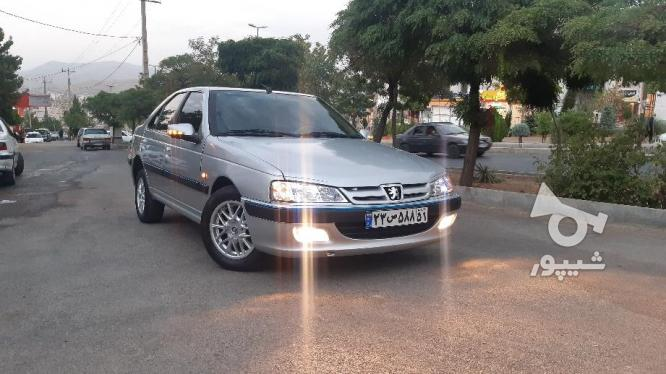car: (365, 206, 429, 234)
